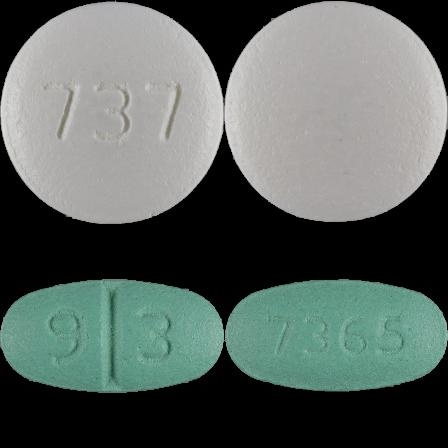68788-6799: (0, 0, 224, 224)
